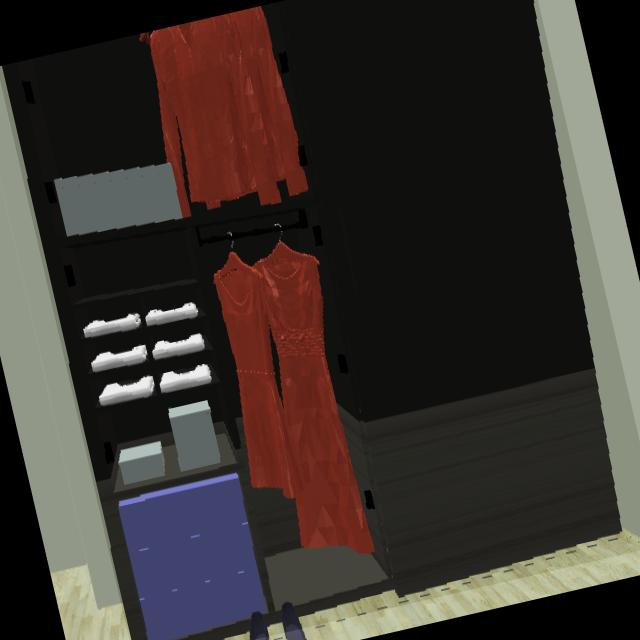wardrobe: (1, 0, 623, 640)
